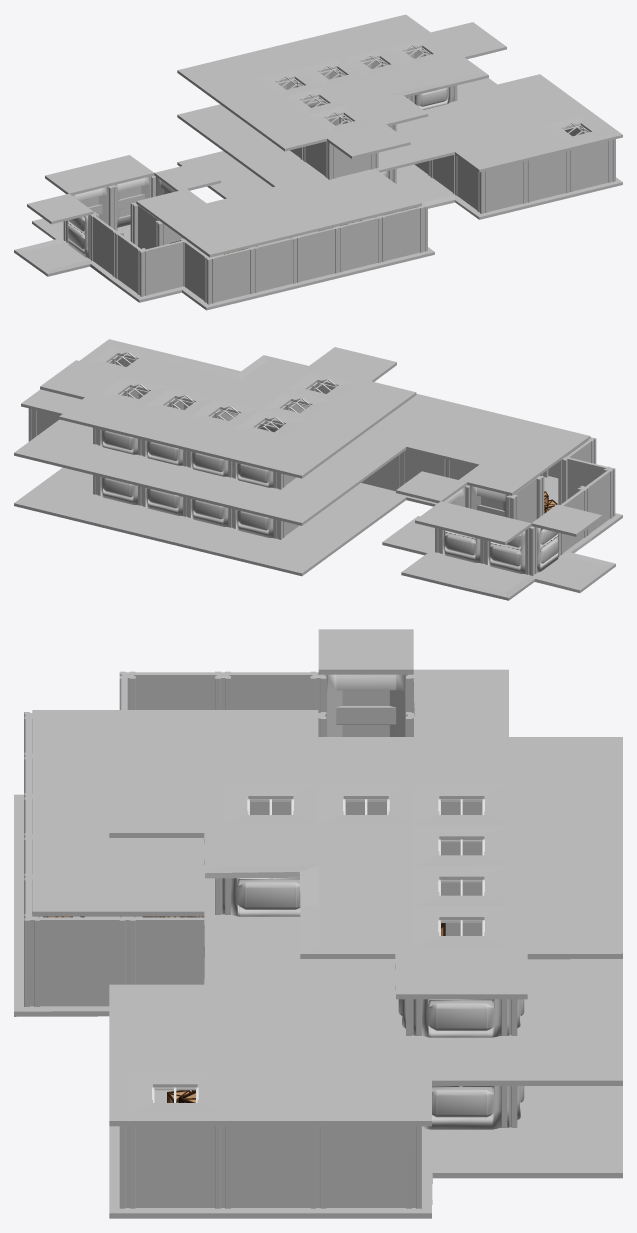
Rendered from level-3.fbx.
The picture shows the model from 3 angles, top to bottom: view 1: azimuth 30°, elevation 25°; view 2: azimuth 150°, elevation 25°; view 3: azimuth 270°, elevation 25°; orthographic projection. The views are drawn at different scales.
Visible parts, largest first — view 1: floor-ceiling, wall-normal, pillar, wall-2nd, windows; view 2: floor-ceiling, wall-2nd, wall-normal, pillar, windows; view 3: floor-ceiling, wall-normal, wall-2nd, pillar, windows.
Part boxes in pixels (box(x1,y1,x2,y2)): floor-ceiling: box(14, 14, 622, 310); wall-normal: box(91, 126, 608, 302); pillar: box(63, 51, 615, 304); wall-2nd: box(68, 49, 453, 257); windows: box(276, 44, 589, 135); floor-ceiling: box(14, 339, 622, 600); wall-2nd: box(100, 388, 558, 573); wall-normal: box(32, 356, 612, 554); pillar: box(28, 359, 615, 575); windows: box(108, 352, 336, 431); floor-ceiling: box(14, 629, 622, 1218); wall-normal: box(25, 672, 482, 1207); wall-2nd: box(222, 674, 524, 1129); pillar: box(24, 671, 517, 1208); windows: box(152, 799, 484, 1102).
Size of the model in its own units: 3714 by 661 by 1914.
